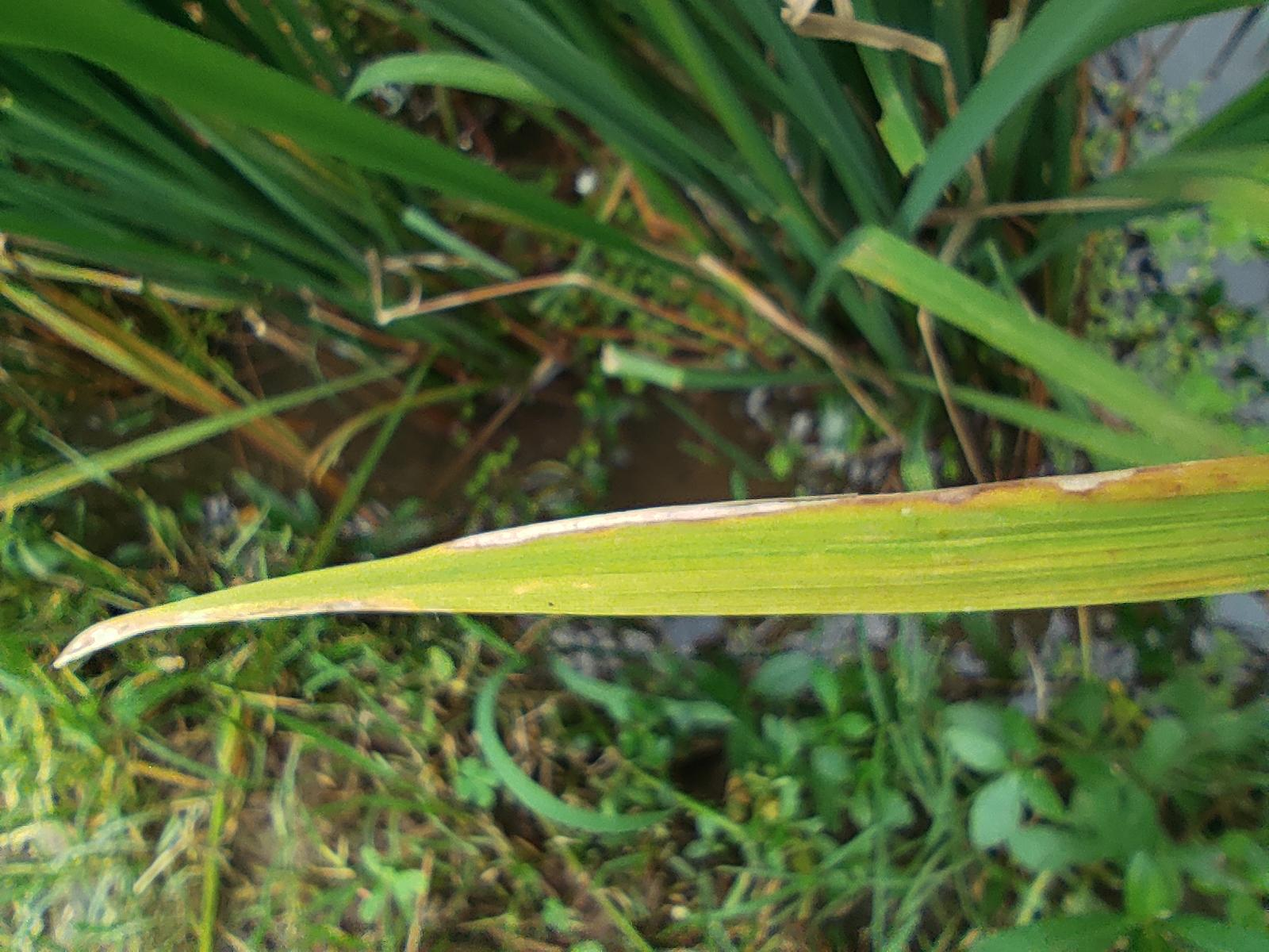BLB: (538, 328, 614, 687), (383, 41, 470, 313)
LEAF: (381, 40, 662, 951)
